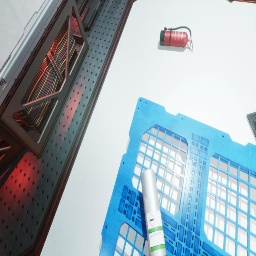0: (141, 169, 167, 256)
FireExtinguisher ]: (160, 26, 193, 51)
